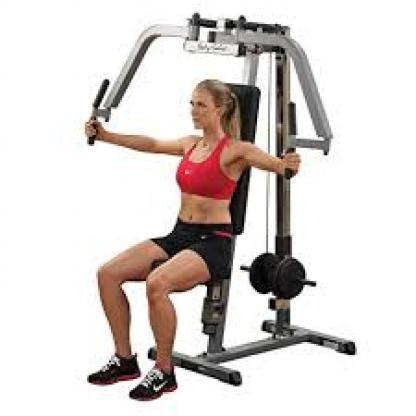chest fly machine: (66, 10, 369, 404)
